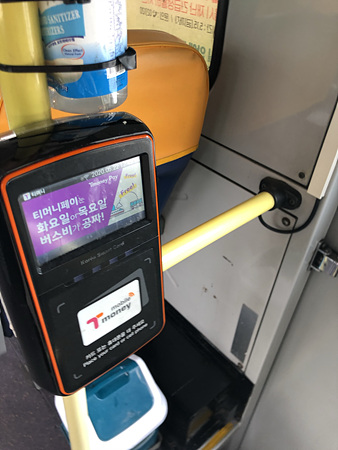terminal: (5, 113, 168, 386)
